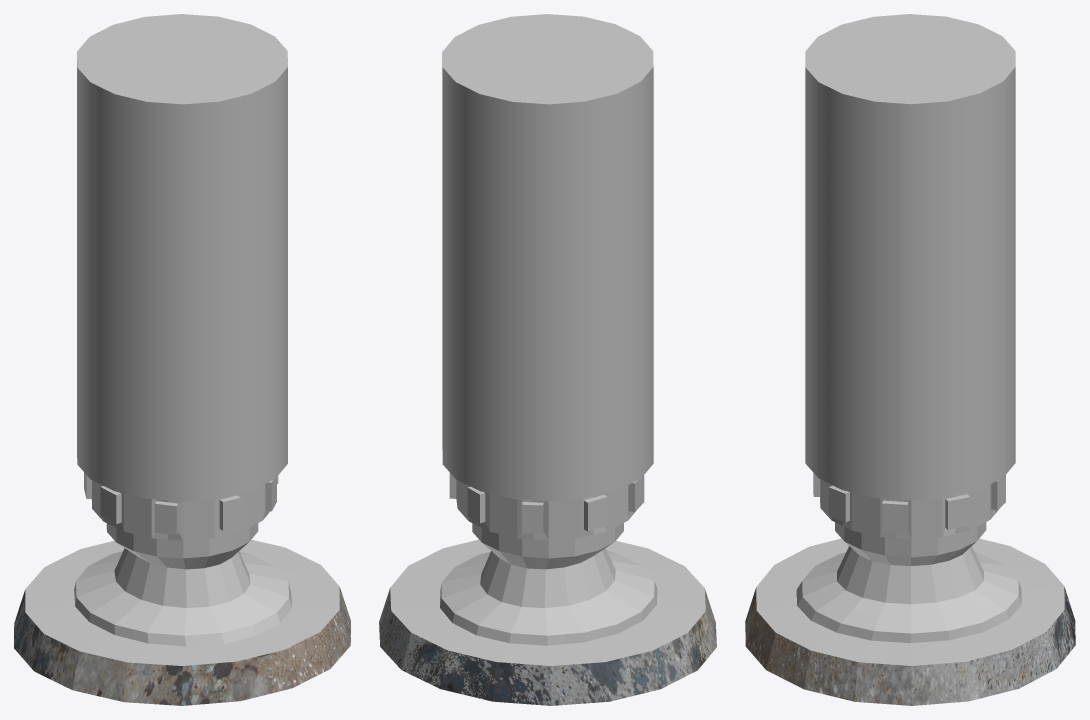
Rendered from Hover_Device.FBX.
3 renders of one model, left to right at view 1: azimuth 30°, elevation 25°; view 2: azimuth 150°, elevation 25°; view 3: azimuth 270°, elevation 25°, orthographic.
Parts seen in each view (by area): view 1: Top Piece, Middle Piece, Propeller; view 2: Top Piece, Middle Piece, Propeller; view 3: Top Piece, Middle Piece, Propeller.
Boxes of the visible parts, x1=… form: Top Piece: x1=77, y1=14, x2=287, y2=501; Middle Piece: x1=25, y1=472, x2=339, y2=665; Propeller: x1=14, y1=587, x2=350, y2=705; Top Piece: x1=442, y1=14, x2=653, y2=501; Middle Piece: x1=390, y1=472, x2=705, y2=665; Propeller: x1=379, y1=588, x2=716, y2=705; Top Piece: x1=805, y1=14, x2=1015, y2=500; Middle Piece: x1=756, y1=473, x2=1064, y2=665; Propeller: x1=745, y1=587, x2=1075, y2=705.
Bounding box in the file's own units: 74.77 × 71.94 × 139.
